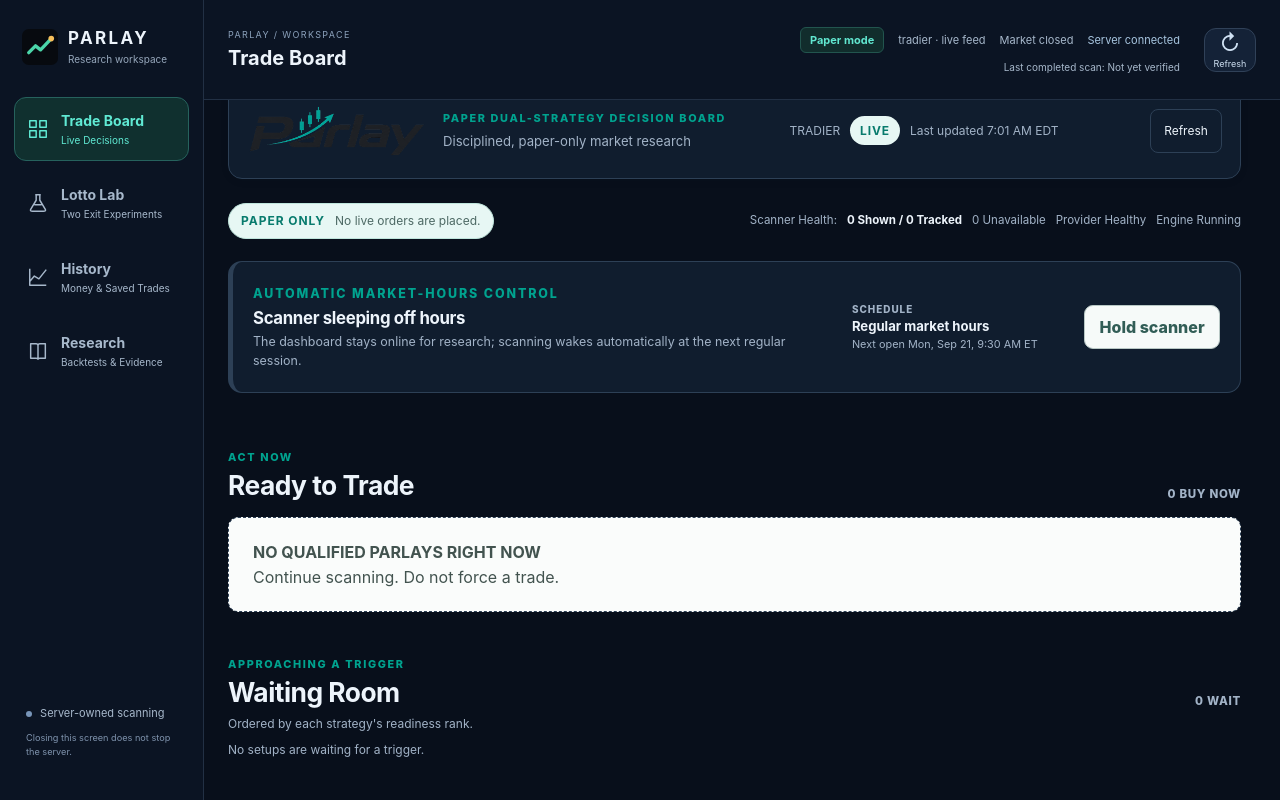
it: shows automatic off-hours sleep and lets the operator hold the scanner
(page scrolled)
Expected: the heading "Scanner sleeping off hours" is shown, [253,308,465,328]
Expected: the text "dashboard stays online for research" is shown, [253,334,786,368]
Click the button "Hold scanner" at {"x": 1152, "y": 327}, box [1084,305,1220,349]
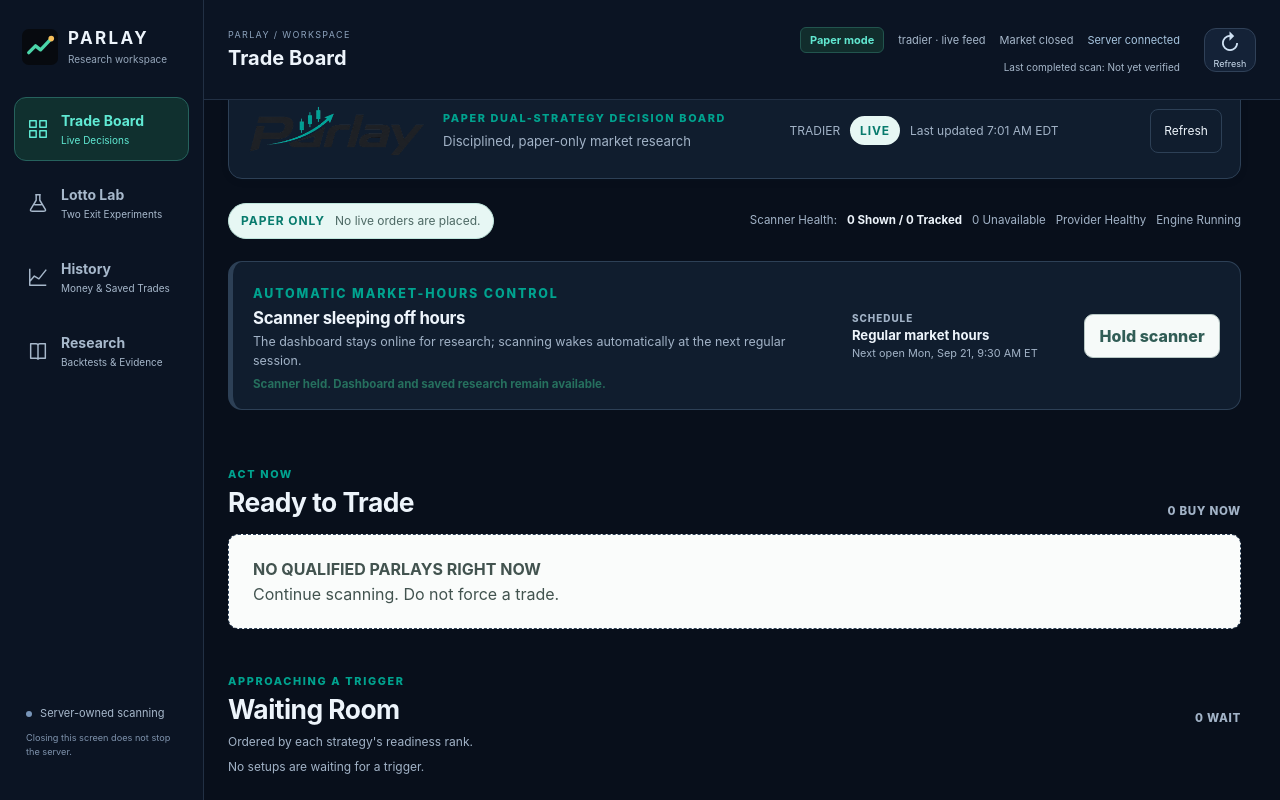
Expected: the text "Scanner held. Dashboard and saved research remain available." is shown, [253,377,606,391]
